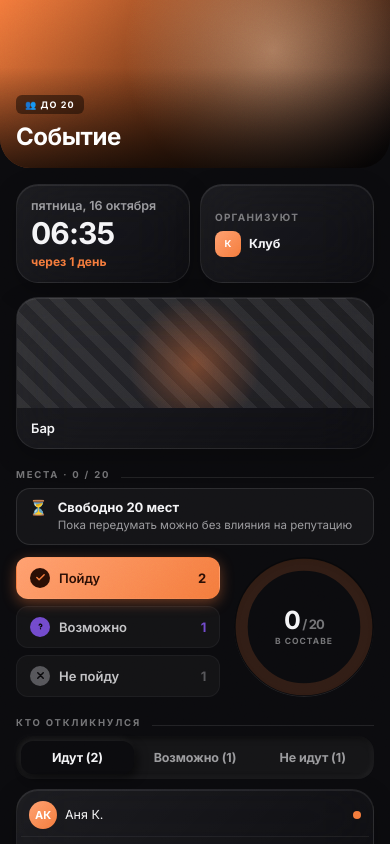
Test: EventPage — блок «Набор» (event-vote-block.md) › AC-VB5: таб «Не идут» показывает только проголосовавших not_going
The image size is (390, 844).
Check: the text "Аня К." is shown, box [65,807,103,822]
Check: the text "Тимур" is not shown
Click the button "Не идут (1)" at [313, 757], box [256,741,369,774]
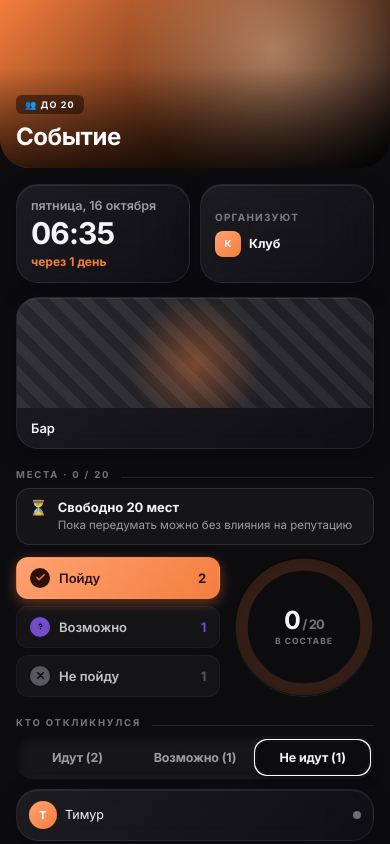
Check: the text "Тимур" is shown, box [65,807,104,822]
Check: the text "Аня К." is gone
